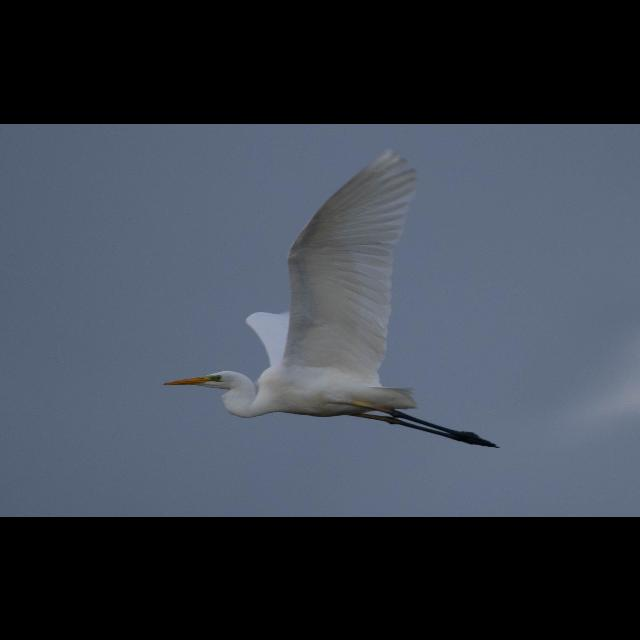egret: (160, 148, 504, 454)
